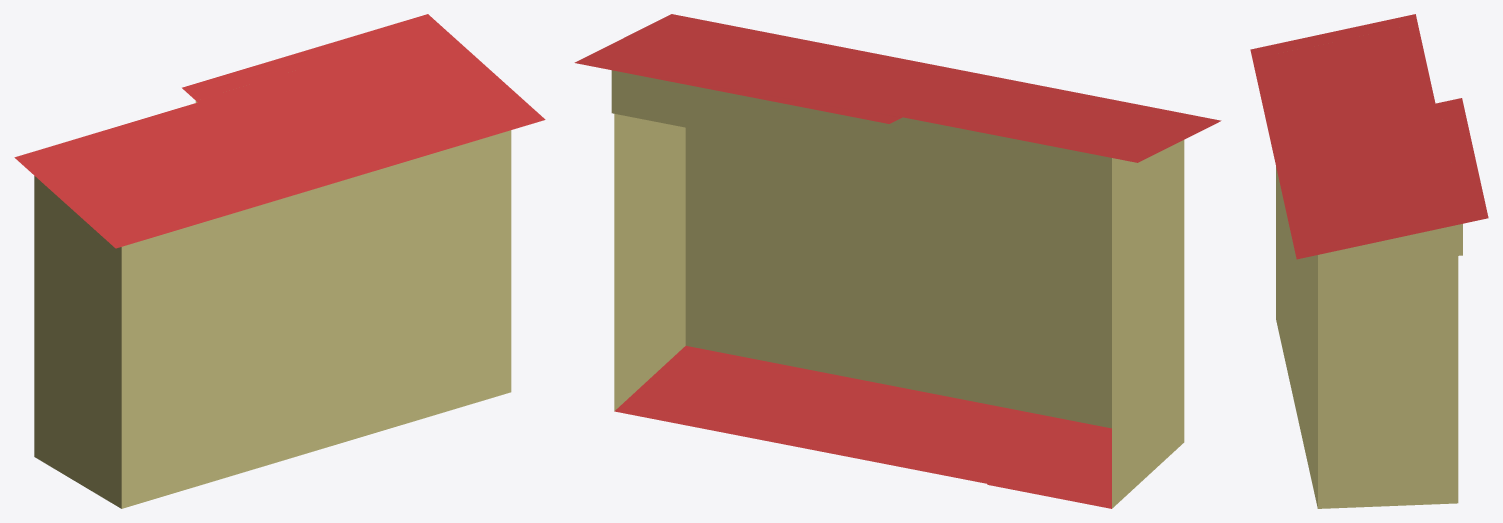
3 renders of one model, left to right at view 1: azimuth 30°, elevation 25°; view 2: azimuth 150°, elevation 25°; view 3: azimuth 270°, elevation 25°, orthographic. The views are drawn at different scales.
Size of the model in its own units: 10.93 by 5.09 by 6.92.
